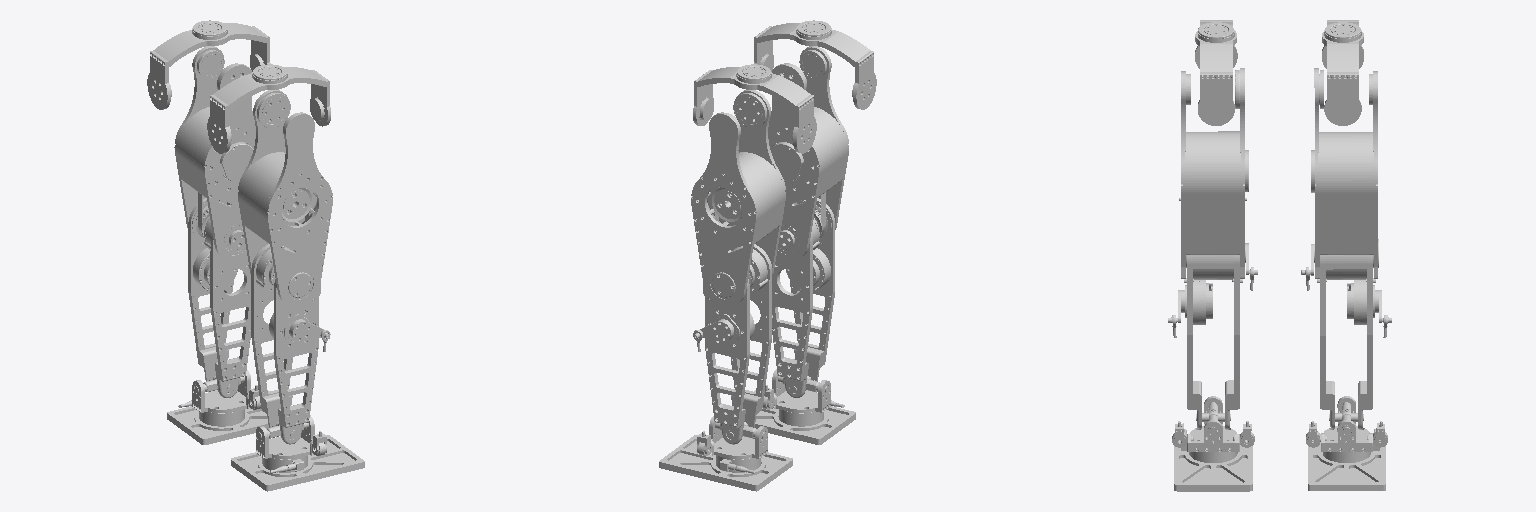
URDF robot description (total_robot_nl):
<?xml version="1.0" ?>
<robot name="total_robot_nl" xmlns:xacro="http://www.ros.org/wiki/xacro">

<link name = "world"/>
<link name = "base_link"/>
<link name = "pitch"/>
<link name="pelvis">
  <inertial>
    <origin xyz="-0.00020305658642525651 -2.299524657931652e-06 0.1172286439789711" rpy="0 0 0"/>
    <mass value="5.152280783786209"/>
    <inertia ixx="0.047442" iyy="0.033846" izz="0.037155" ixy="-0.0" iyz="-1e-06" ixz="0.000292"/>
  </inertial>
  <visual>
    <origin xyz="0 0 0" rpy="0 0 0"/>
    <geometry>
      <mesh filename="package://ik_test/meshes/meshes/base_link.stl" scale="0.001 0.001 0.001"/>
    </geometry>
    <material name="silver">
      <color rgba="0.85 0.85 0.85 1.000"/>
    </material>
  </visual>
  <collision>
    <origin xyz="0 0 0" rpy="0 0 0"/>
    <geometry>
      <mesh filename="package://ik_test/meshes/meshes/base_link.stl" scale="0.001 0.001 0.001"/>
    </geometry>
  </collision>
</link>

<link name="right_yaw">
  <inertial>
    <origin xyz="-0.003387170114723884 3.4379261523720395e-07 -0.044730635776334654" rpy="0 0 0"/>
    <mass value="0.23424145827439846"/>
    <inertia ixx="0.000378" iyy="0.001666" izz="0.001409" ixy="0.0" iyz="0.0" ixz="-4.5e-05"/>
  </inertial>
  <visual>
    <origin xyz="0.001536 0.105 -0.006958" rpy="0 0 0"/>
    <geometry>
      <mesh filename="package://ik_test/meshes/meshes/right_yaw.stl" scale="0.001 0.001 0.001"/>
    </geometry>
    <material name="silver">
      <color rgba="0.85 0.85 0.85 1.000"/>
    </material>
  </visual>
  <collision>
    <origin xyz="0.001536 0.105 -0.006958" rpy="0 0 0"/>
    <geometry>
      <mesh filename="package://ik_test/meshes/meshes/right_yaw.stl" scale="0.001 0.001 0.001"/>
    </geometry>
  </collision>
</link>

<link name="right_rp">
  <inertial>
    <origin xyz="0.003062145 -0.002214028202584803 -6.154780610961863e-05" rpy="0 0 0"/>
    <mass value="0.690812556297437"/>
    <inertia ixx="0.00118" iyy="0.00287" izz="0.00271" ixy="4.3e-05" iyz="-6e-06" ixz="-4e-06"/>
  </inertial>
  <visual>
    <origin xyz="0.001536 0.105 0.088598" rpy="0 0 0"/>
    <geometry>
      <mesh filename="package://ik_test/meshes/meshes/right_rp.stl" scale="0.001 0.001 0.001"/>
    </geometry>
    <material name="silver">
      <color rgba="0.85 0.85 0.85 1.000"/>
    </material>
  </visual>
  <collision>
    <origin xyz="0.001536 0.105 0.088598" rpy="0 0 0"/>
    <geometry>
      <mesh filename="package://ik_test/meshes/meshes/right_rp.stl" scale="0.001 0.001 0.001"/>
    </geometry>
  </collision>
</link>

<link name="right_upper_link">
  <inertial>
    <origin xyz="0.002301542175954175 -0.002972894 -0.15079668153621606" rpy="0 0 0"/>
    <mass value="0.9258424873332725"/>
    <inertia ixx="0.006961" iyy="0.006745" izz="0.002544" ixy="7e-06" iyz="-0.000146" ixz="0.000217"/>
  </inertial>
  <visual>
    <origin xyz="-0.026414 0.105 0.088641" rpy="0 0 0"/>
    <geometry>
      <mesh filename="package://ik_test/meshes/meshes/right_upper_link.stl" scale="0.001 0.001 0.001"/>
    </geometry>
    <material name="silver">
      <color rgba="0.85 0.85 0.85 1.000"/>
    </material>
  </visual>
  <collision>
    <origin xyz="-0.026414 0.105 0.088641" rpy="0 0 0"/>
    <geometry>
      <mesh filename="package://ik_test/meshes/meshes/right_upper_link.stl" scale="0.001 0.001 0.001"/>
    </geometry>
  </collision>
</link>

<link name="right_lower_link">
  <inertial>
    <origin xyz="0.001498001214367918 -0.002773083 -0.08163965093235381" rpy="0 0 0"/>
    <mass value="0.6817251658718579"/>
    <inertia ixx="0.007024" iyy="0.006492" izz="0.001195" ixy="-0.0" iyz="-4.5e-05" ixz="-5.2e-05"/>
  </inertial>
  <visual>
    <origin xyz="-0.026414 0.110288 0.388641" rpy="0 0 0"/>
    <geometry>
      <mesh filename="package://ik_test/meshes/meshes/right_lower_link.stl" scale="0.001 0.001 0.001"/>
    </geometry>
    <material name="silver">
      <color rgba="0.85 0.85 0.85 1.000"/>
    </material>
  </visual>
  <collision>
    <origin xyz="-0.026414 0.110288 0.388641" rpy="0 0 0"/>
    <geometry>
      <mesh filename="package://ik_test/meshes/meshes/right_lower_link.stl" scale="0.001 0.001 0.001"/>
    </geometry>
  </collision>
</link>

<link name="right_ankle">
  <inertial>
    <origin xyz="4.824912801307257e-07 -0.000000367 3.398427368073165e-05" rpy="0 0 0"/>
    <mass value="0.03255793420333914"/>
    <inertia ixx="5e-06" iyy="1.7e-05" izz="2e-05" ixy="-0.0" iyz="-0.0" ixz="0.0"/>
  </inertial>
  <visual>
    <origin xyz="-0.026414 0.109727 0.68858" rpy="0 0 0"/>
    <geometry>
      <mesh filename="package://ik_test/meshes/meshes/right_ankle.stl" scale="0.001 0.001 0.001"/>
    </geometry>
    <material name="silver">
      <color rgba="0.85 0.85 0.85 1.000"/>
    </material>
  </visual>
  <collision>
    <origin xyz="-0.026414 0.109727 0.68858" rpy="0 0 0"/>
    <geometry>
      <mesh filename="package://ik_test/meshes/meshes/right_ankle.stl" scale="0.001 0.001 0.001"/>
    </geometry>
  </collision>
</link>

<link name="right_foot">
  <inertial>
    <origin xyz="0.01761519535511249 -0.0005768277267058086 -0.0580822077884815" rpy="0 0 0"/>
    <mass value="0.4255598361250292"/>
    <inertia ixx="0.000686" iyy="0.001174" izz="0.001512" ixy="-8e-06" iyz="2e-06" ixz="3.2e-05"/>
  </inertial>
  <visual>
    <origin xyz="-0.026414 0.109727 0.688602" rpy="0 0 0"/>
    <geometry>
      <mesh filename="package://ik_test/meshes/meshes/right_foot.stl" scale="0.001 0.001 0.001"/>
    </geometry>
    <material name="silver">
      <color rgba="0.85 0.85 0.85 1.000"/>
    </material>
  </visual>
  <collision>
    <origin xyz="-0.026414 0.109727 0.688602" rpy="0 0 0"/>
    <geometry>
      <mesh filename="package://ik_test/meshes/meshes/right_foot.stl" scale="0.001 0.001 0.001"/>
    </geometry>
  </collision>
</link>

<link name="left_yaw">
  <inertial>
    <origin xyz="-0.003387170113489349 3.437926530541757e-07 -0.04472797689299879" rpy="0 0 0"/>
    <mass value="0.23424145827233966"/>
    <inertia ixx="0.000378" iyy="0.001666" izz="0.001409" ixy="0.0" iyz="-0.0" ixz="-4.5e-05"/>
  </inertial>
  <visual>
    <origin xyz="0.001536 -0.105 -0.006958" rpy="0 0 0"/>
    <geometry>
      <mesh filename="package://ik_test/meshes/meshes/left_yaw.stl" scale="0.001 0.001 0.001"/>
    </geometry>
    <material name="silver">
      <color rgba="0.85 0.85 0.85 1.000"/>
    </material>
  </visual>
  <collision>
    <origin xyz="0.001536 -0.105 -0.006958" rpy="0 0 0"/>
    <geometry>
      <mesh filename="package://ik_test/meshes/meshes/left_yaw.stl" scale="0.001 0.001 0.001"/>
    </geometry>
  </collision>
</link>

<link name="left_rp">
  <inertial>
    <origin xyz="0.003062159 0.002214840752492689 -5.654296421113425e-05" rpy="0 0 0"/>
    <mass value="0.6908122901011517"/>
    <inertia ixx="0.00118" iyy="0.002869" izz="0.00271" ixy="-4.3e-05" iyz="7e-06" ixz="-4e-06"/>
  </inertial>
  <visual>
    <origin xyz="0.001536 -0.105 0.088598" rpy="0 0 0"/>
    <geometry>
      <mesh filename="package://ik_test/meshes/meshes/left_rp.stl" scale="0.001 0.001 0.001"/>
    </geometry>
    <material name="silver">
      <color rgba="0.85 0.85 0.85 1.000"/>
    </material>
  </visual>
  <collision>
    <origin xyz="0.001536 -0.105 0.088598" rpy="0 0 0"/>
    <geometry>
      <mesh filename="package://ik_test/meshes/meshes/left_rp.stl" scale="0.001 0.001 0.001"/>
    </geometry>
  </collision>
</link>

<link name="left_upper_link">
  <inertial>
    <origin xyz="0.0023146429745539224 0.003311485 -0.1508794685104973" rpy="0 0 0"/>
    <mass value="0.9255380783714433"/>
    <inertia ixx="0.006959" iyy="0.006742" izz="0.002543" ixy="-8e-06" iyz="0.000155" ixz="0.000218"/>
  </inertial>
  <visual>
    <origin xyz="-0.026414 -0.105 0.088529" rpy="0 0 0"/>
    <geometry>
      <mesh filename="package://ik_test/meshes/meshes/left_upper_link.stl" scale="0.001 0.001 0.001"/>
    </geometry>
    <material name="silver">
      <color rgba="0.85 0.85 0.85 1.000"/>
    </material>
  </visual>
  <collision>
    <origin xyz="-0.026414 -0.105 0.088529" rpy="0 0 0"/>
    <geometry>
      <mesh filename="package://ik_test/meshes/meshes/left_upper_link.stl" scale="0.001 0.001 0.001"/>
    </geometry>
  </collision>
</link>

<link name="left_lower_link">
  <inertial>
    <origin xyz="0.0014979772223235738 0.00325822 -0.08174396151435326" rpy="0 0 0"/>
    <mass value="0.6817257546564137"/>
    <inertia ixx="0.007024" iyy="0.006492" izz="0.001195" ixy="0.0" iyz="5.7e-05" ixz="-5.2e-05"/>
  </inertial>
  <visual>
    <origin xyz="-0.026414 -0.110969 0.388517" rpy="0 0 0"/>
    <geometry>
      <mesh filename="package://ik_test/meshes/meshes/left_lower_link.stl" scale="0.001 0.001 0.001"/>
    </geometry>
    <material name="silver">
      <color rgba="0.85 0.85 0.85 1.000"/>
    </material>
  </visual>
  <collision>
    <origin xyz="-0.026414 -0.110969 0.388517" rpy="0 0 0"/>
    <geometry>
      <mesh filename="package://ik_test/meshes/meshes/left_lower_link.stl" scale="0.001 0.001 0.001"/>
    </geometry>
  </collision>
</link>

<link name="left_ankle">
  <inertial>
    <origin xyz="-1.2225763775797205e-06 0.000000402 1.968676151820059e-05" rpy="0 0 0"/>
    <mass value="0.032557947198084525"/>
    <inertia ixx="5e-06" iyy="1.7e-05" izz="2e-05" ixy="0.0" iyz="-0.0" ixz="-0.0"/>
  </inertial>
  <visual>
    <origin xyz="-0.026414 -0.111388 0.688553" rpy="0 0 0"/>
    <geometry>
      <mesh filename="package://ik_test/meshes/meshes/left_ankle.stl" scale="0.001 0.001 0.001"/>
    </geometry>
    <material name="silver">
      <color rgba="0.85 0.85 0.85 1.000"/>
    </material>
  </visual>
  <collision>
    <origin xyz="-0.026414 -0.111388 0.688553" rpy="0 0 0"/>
    <geometry>
      <mesh filename="package://ik_test/meshes/meshes/left_ankle.stl" scale="0.001 0.001 0.001"/>
    </geometry>
  </collision>
</link>

<link name="left_foot">
  <inertial>
    <origin xyz="0.02701606411021572 0.0006641852928514075 -0.058081445541025456" rpy="0 0 0"/>
    <mass value="0.42555979909734665"/>
    <inertia ixx="0.000686" iyy="0.001174" izz="0.001512" ixy="8e-06" iyz="-2e-06" ixz="3.2e-05"/>
  </inertial>
  <visual>
    <origin xyz="-0.031414 -0.111388 0.688589" rpy="0 0 0"/>
    <geometry>
      <mesh filename="package://ik_test/meshes/meshes/left_foot.stl" scale="0.001 0.001 0.001"/>
    </geometry>
    <material name="silver">
      <color rgba="0.85 0.85 0.85 1.000"/>
    </material>
  </visual>
  <collision>
    <origin xyz="-0.031414 -0.111388 0.688589" rpy="0 0 0"/>
    <geometry>
      <mesh filename="package://ik_test/meshes/meshes/left_foot.stl" scale="0.001 0.001 0.001"/>
    </geometry>
  </collision>
</link>


<joint name="pel_roll" type="revolute">
  <origin xyz="0 0 0" rpy="0 0 0"/>
  <parent link="world"/>
  <child link="base_link"/>
  <axis xyz="1 0 0"/>
  <limit upper="3.141592" lower="-3.141592" effort="100" velocity="100"/>
</joint>

<joint name="pel_pitch" type="revolute">
  <origin xyz="0 0 0" rpy="0 0 0"/>
  <parent link="base_link"/>
  <child link="pitch"/>
  <axis xyz="0 1 0"/>
  <limit upper="3.141592" lower="-3.141592" effort="100" velocity="100"/>
</joint>

<joint name="pel_yaw" type="revolute">
  <origin xyz="0.0041825 0 -0.31746" rpy="0 0 0"/>
  <parent link="pitch"/>
  <child link="pelvis"/>
  <axis xyz="0 0 1"/>
  <limit upper="3.141592" lower="-3.141592" effort="100" velocity="100"/>
</joint>

<joint name="hip_yaw_right" type="revolute">
  <origin xyz="-0.001536 -0.105 0.006958" rpy="0 0 0"/>
  <parent link="pelvis"/>
  <child link="right_yaw"/>
  <axis xyz="0.0 0.0 1.0"/>
  <limit upper="1.570796" lower="-0.698132" effort="100" velocity="100"/>
</joint>

<joint name="hip_roll_right" type="revolute">
  <origin xyz="0.0 0.0 -0.095556" rpy="0 0 0"/>
  <parent link="right_yaw"/>
  <child link="right_rp"/>
  <axis xyz="1.0 0.0 0.0"/>
  <limit upper="0.872665" lower="-1.570796" effort="100" velocity="100"/>
</joint>

<joint name="hip_pitch_right" type="revolute">
  <origin xyz="0.02795 0.0 0.0" rpy="0 0 0"/>
  <parent link="right_rp"/>
  <child link="right_upper_link"/>
  <axis xyz="0.0 1.0 0.0"/>
  <limit upper="1.832596" lower="-0.523599" effort="100" velocity="100"/>
</joint>

<joint name="knee_right" type="revolute">
  <origin xyz="0.0 -0.005288 -0.3" rpy="0 0 0"/>
  <parent link="right_upper_link"/>
  <child link="right_lower_link"/>
  <axis xyz="0.0 1.0 0.0"/>
  <limit upper="0.0" lower="-2.129302" effort="100" velocity="100"/>
</joint>

<joint name="ankle_pitch_right" type="revolute">
  <origin xyz="0.0 0.000561 -0.3" rpy="0 0 0"/>
  <parent link="right_lower_link"/>
  <child link="right_ankle"/>
  <axis xyz="0.0 1.0 0.0"/>
  <limit upper="1.22173" lower="-1.047198" effort="100" velocity="100"/>
</joint>

<joint name="ankle_roll_right" type="revolute">
  <origin xyz="0.0 0.0 0.0" rpy="0 0 0"/>
  <parent link="right_ankle"/>
  <child link="right_foot"/>
  <axis xyz="1.0 0.0 0.0"/>
  <limit upper="0.663225" lower="-0.523599" effort="100" velocity="100"/>
</joint>

<joint name="hip_yaw_left" type="revolute">
  <origin xyz="-0.001536 0.105 0.006958" rpy="0 0 0"/>
  <parent link="pelvis"/>
  <child link="left_yaw"/>
  <axis xyz="0.0 0.0 1.0"/>
  <limit upper="0.698132" lower="-1.570796" effort="100" velocity="100"/>
</joint>

<joint name="hip_roll_left" type="revolute">
  <origin xyz="0.0 0.0 -0.095556" rpy="0 0 0"/>
  <parent link="left_yaw"/>
  <child link="left_rp"/>
  <axis xyz="1.0 0.0 0.0"/>
  <limit upper="0.698132" lower="-1.570796" effort="100" velocity="100"/>
</joint>

<joint name="hip_pitch_left" type="revolute">
  <origin xyz="0.02795 0.0 0.0" rpy="0 0 0"/>
  <parent link="left_rp"/>
  <child link="left_upper_link"/>
  <axis xyz="0.0 1 0.0"/>
  <limit upper="1.832596" lower="-0.523599" effort="100" velocity="100"/>
</joint>

<joint name="knee_left" type="revolute">
  <origin xyz="0.0 0.005969 -0.3" rpy="0 0 0"/>
  <parent link="left_upper_link"/>
  <child link="left_lower_link"/>
  <axis xyz="0.0 1.0 0.0"/>
  <limit upper="0.0" lower="-2.129302" effort="100" velocity="100"/>
</joint>

<joint name="ankle_pitch_left" type="revolute">
  <origin xyz="0.0 0.000419 -0.3" rpy="0 0 0"/>
  <parent link="left_lower_link"/>
  <child link="left_ankle"/>
  <axis xyz="0.0 1.0 0.0"/>
  <limit upper="1.22173" lower="-1.047198" effort="100" velocity="100"/>
</joint>

<joint name="ankle_roll_left" type="revolute">
  <origin xyz="0.0 0.0 0.0" rpy="0 0 0"/>
  <parent link="left_ankle"/>
  <child link="left_foot"/>
  <axis xyz="1.0 0.0 0.0"/>
  <limit upper="0.663225" lower="-0.523599" effort="100" velocity="100"/>
</joint>

</robot>

--- Render facts (derived) ---
Views: 3 orthographic renders of the robot side by side, from view 1: azimuth 30°, elevation 25°; view 2: azimuth 150°, elevation 25°; view 3: azimuth 270°, elevation 25°.
Robot: total_robot_nl — 16 links, 15 joints (15 revolute); root link world; default pose: all joints at 0.
Visible links, largest first — view 1: right_upper_link, left_upper_link, right_lower_link, left_lower_link, right_foot, left_foot, right_yaw, left_yaw; view 2: left_upper_link, right_upper_link, left_lower_link, right_lower_link, left_foot, right_foot, left_yaw, right_yaw; view 3: right_upper_link, left_upper_link, right_foot, left_foot, left_lower_link, right_lower_link, right_yaw, left_yaw.
Boxes of the visible links, box(x1,y1,x2,y2) form: right_upper_link: box(238, 90, 332, 306); left_upper_link: box(174, 46, 255, 260); right_lower_link: box(251, 244, 330, 444); left_lower_link: box(188, 198, 250, 397); right_foot: box(231, 415, 364, 491); left_foot: box(167, 370, 269, 444); right_yaw: box(207, 64, 330, 153); left_yaw: box(147, 20, 270, 109); left_upper_link: box(691, 90, 785, 306); right_upper_link: box(768, 46, 848, 260); left_lower_link: box(693, 244, 771, 444); right_lower_link: box(772, 198, 834, 397); left_foot: box(659, 416, 792, 491); right_foot: box(754, 369, 855, 444); left_yaw: box(693, 64, 816, 153); right_yaw: box(754, 20, 876, 109); right_upper_link: box(1179, 68, 1248, 278); left_upper_link: box(1311, 68, 1377, 278); right_foot: box(1172, 396, 1254, 491); left_foot: box(1306, 396, 1387, 490); left_lower_link: box(1301, 239, 1391, 428); right_lower_link: box(1168, 243, 1257, 428); right_yaw: box(1195, 20, 1237, 125); left_yaw: box(1322, 20, 1363, 125).
Size in the robot's own frame: 0.2595 by 0.3709 by 0.7731 metres.
10 mesh visuals loaded from 13 distinct referenced files (10 binary STL); not drawn: 3 (reference not matched to a file when rendering).
